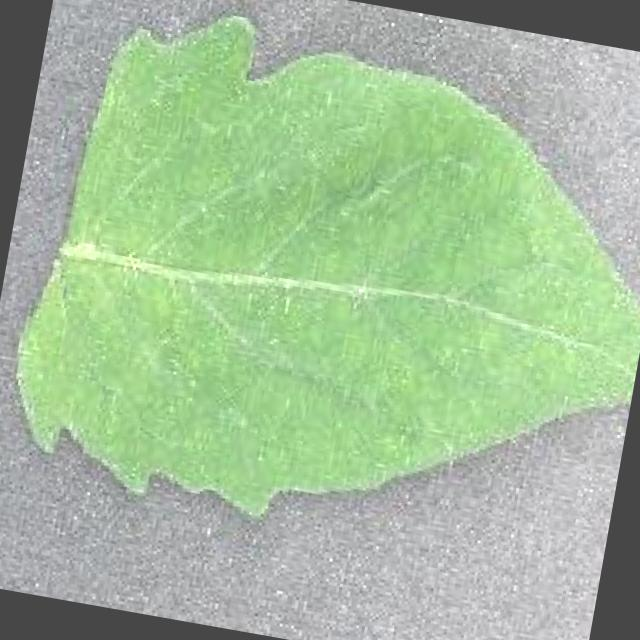healthy: (21, 10, 640, 517)
